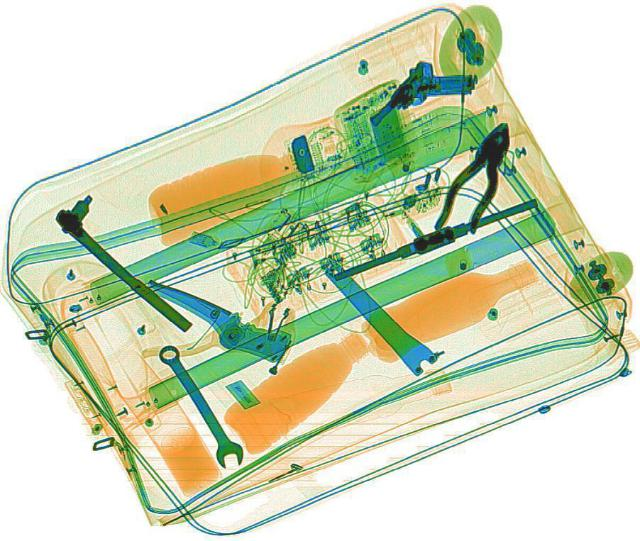Gun: (362, 48, 482, 150)
Pliers: (430, 115, 524, 239)
Wrench: (148, 341, 250, 470)
